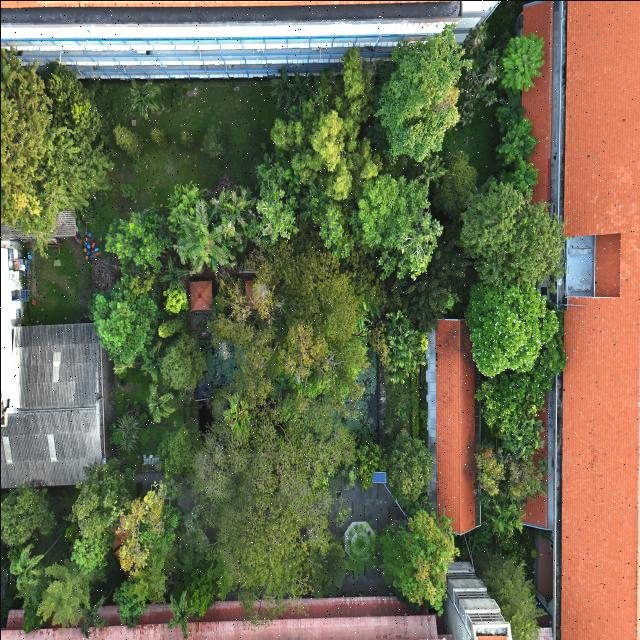Tree: (0, 478, 54, 556), (384, 428, 430, 508), (496, 28, 545, 96), (310, 104, 348, 174), (140, 380, 176, 424), (162, 275, 188, 315)
